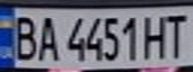1: (121, 12, 142, 61)
4: (63, 12, 87, 62), (84, 12, 106, 62)
5: (103, 14, 124, 62)
A: (33, 12, 60, 62)
B: (6, 11, 39, 61)
H: (139, 11, 172, 60)
T: (163, 10, 193, 58)
